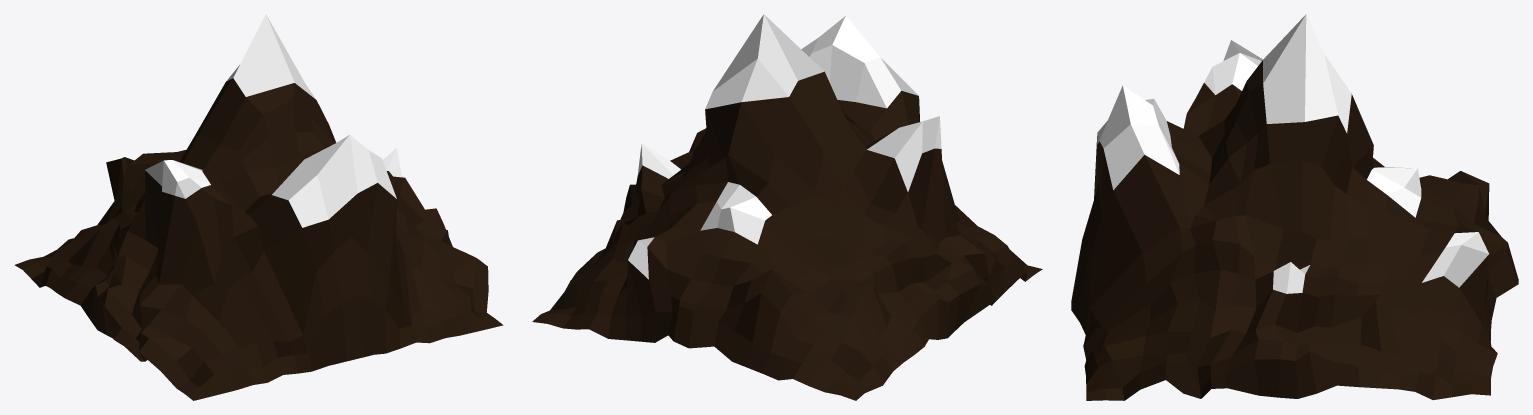
Rendered from Гора5.FBX.
3 views of the same model, side by side, from view 1: azimuth 30°, elevation 25°; view 2: azimuth 150°, elevation 25°; view 3: azimuth 270°, elevation 25° (orthographic). The views are drawn at different scales.
Parts seen in each view (by area): view 1: Плоскость; view 2: Плоскость; view 3: Плоскость.
Part boxes in pixels (x1,y1,x2,y2): Плоскость: (14, 14, 503, 400); Плоскость: (532, 14, 1042, 400); Плоскость: (1071, 14, 1518, 400).
Size of the model in its own units: 887 by 665 by 871.
